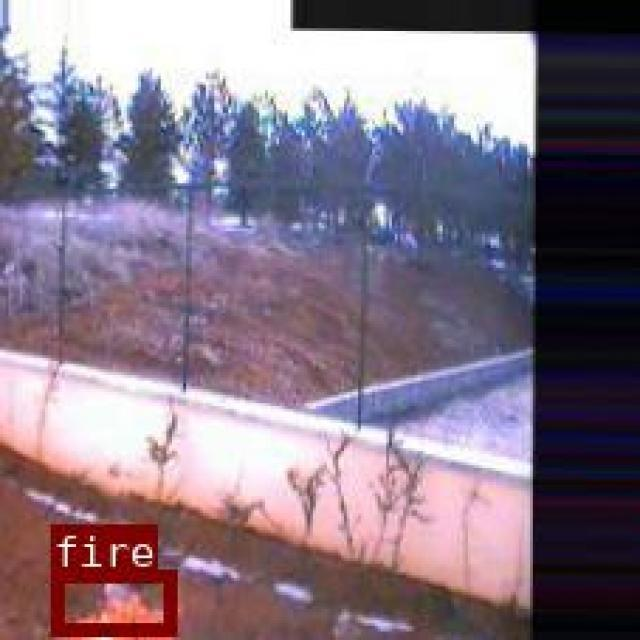fire: (48, 569, 173, 634)
